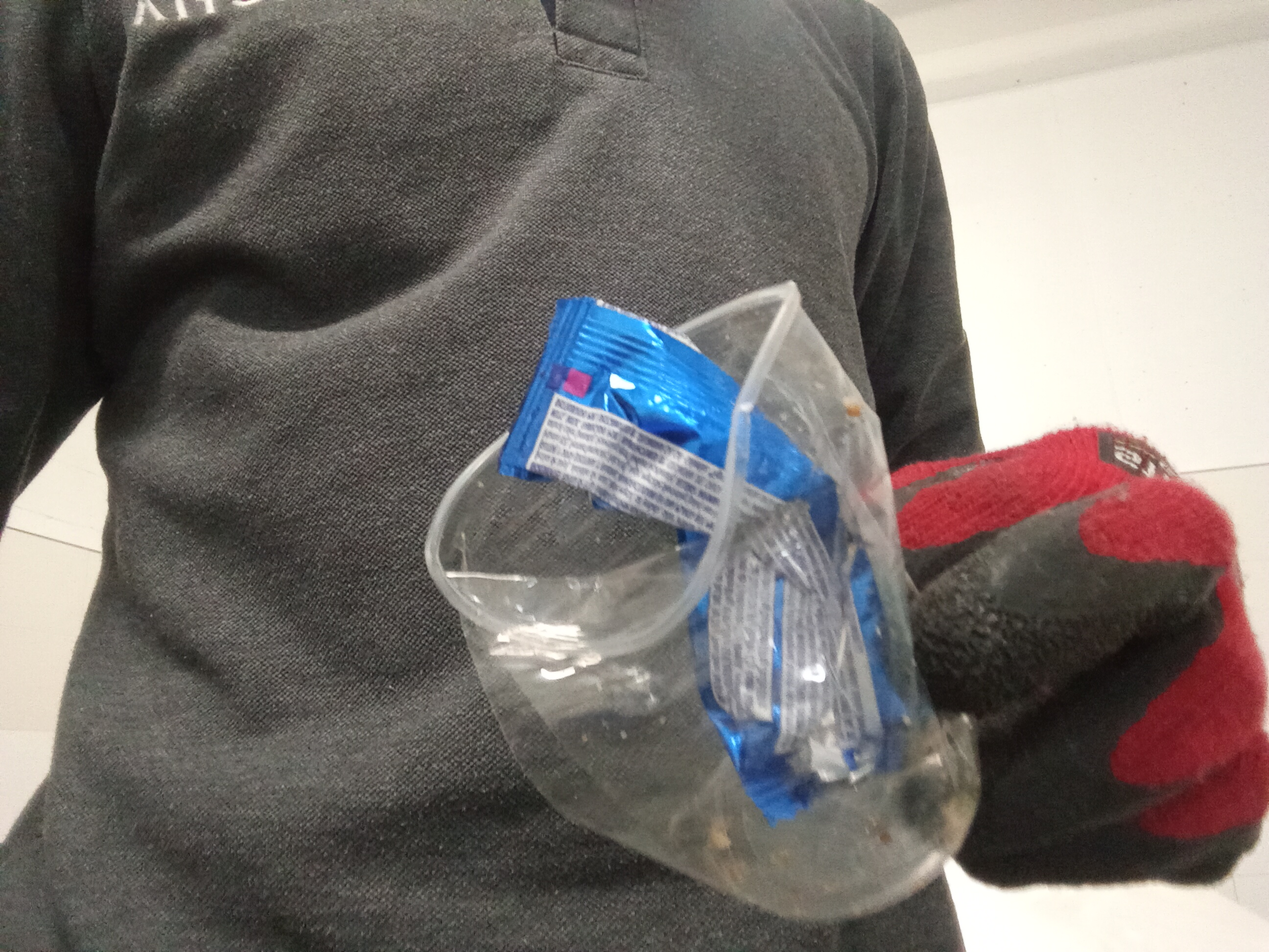Ordinario: (503, 292, 904, 817)
